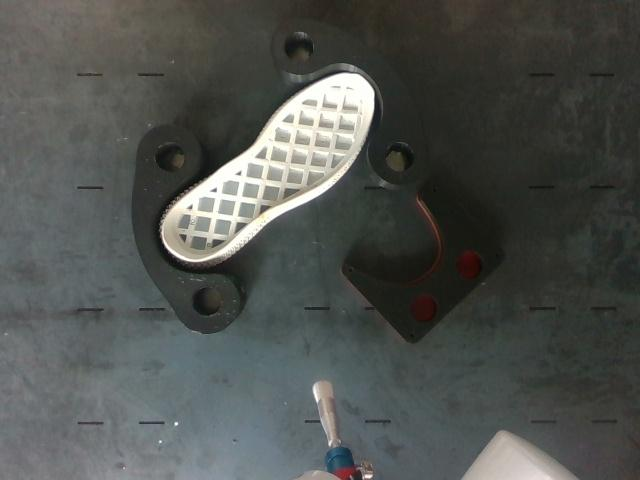shoes: (162, 74, 372, 261)
